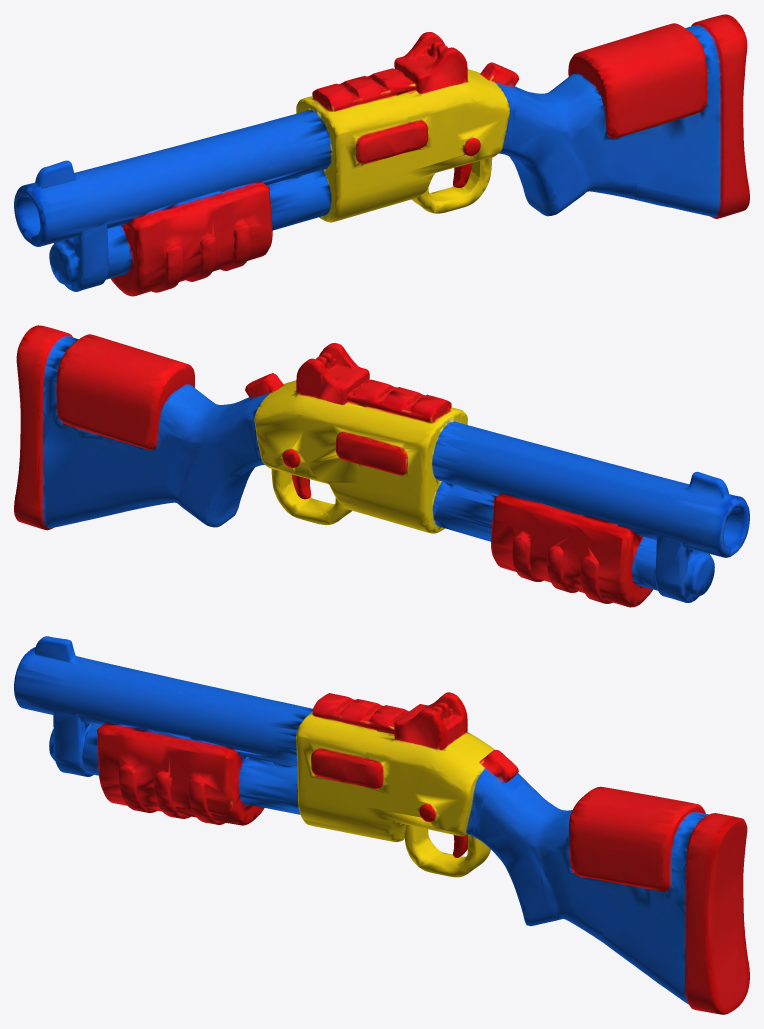
The model's file is toy_shotgun.glb.
3 views of the same model, one above another, from view 1: azimuth 30°, elevation 25°; view 2: azimuth 150°, elevation 25°; view 3: azimuth 330°, elevation 25° (orthographic).
Visible parts, largest first — view 1: tripo_node_d7345c1e-a962-4e7b-beff-efec1089502a; view 2: tripo_node_d7345c1e-a962-4e7b-beff-efec1089502a; view 3: tripo_node_d7345c1e-a962-4e7b-beff-efec1089502a.
Part boxes in pixels (x1=…): tripo_node_d7345c1e-a962-4e7b-beff-efec1089502a: x1=14, y1=14, x2=749, y2=296; tripo_node_d7345c1e-a962-4e7b-beff-efec1089502a: x1=14, y1=325, x2=749, y2=607; tripo_node_d7345c1e-a962-4e7b-beff-efec1089502a: x1=14, y1=636, x2=749, y2=1014.
Size of the model in its own units: 0.9796 by 0.315 by 0.1201.
1 material, 1 textured.
